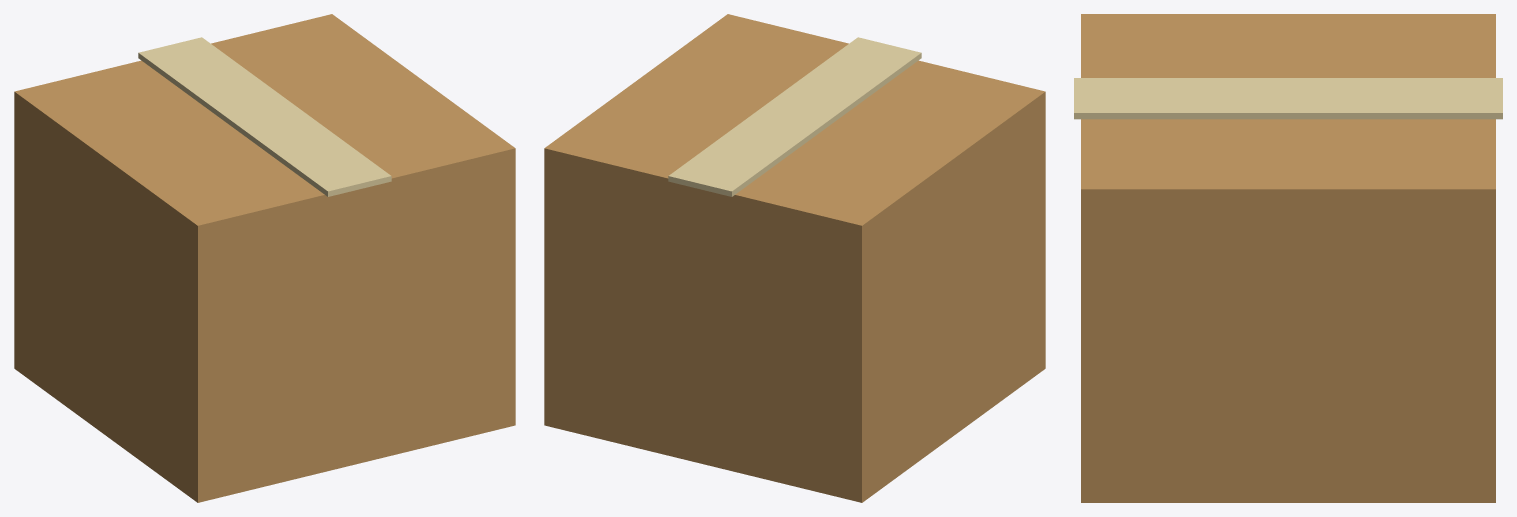
Rendered from falling_box.glb.
3 views of the same model, side by side, from view 1: azimuth 30°, elevation 25°; view 2: azimuth 150°, elevation 25°; view 3: azimuth 270°, elevation 25° (orthographic). The views are drawn at different scales.
Parts seen in each view (by area): view 1: box_cardboard, box_tape; view 2: box_cardboard, box_tape; view 3: box_cardboard, box_tape.
Part boxes in pixels (bbox=[...]): box_cardboard: bbox=[14, 14, 515, 502]; box_tape: bbox=[138, 37, 391, 196]; box_cardboard: bbox=[544, 14, 1045, 502]; box_tape: bbox=[668, 37, 921, 196]; box_cardboard: bbox=[1081, 14, 1495, 502]; box_tape: bbox=[1074, 78, 1502, 119].
Size of the model in its own units: 0.6 by 0.51 by 0.62.
